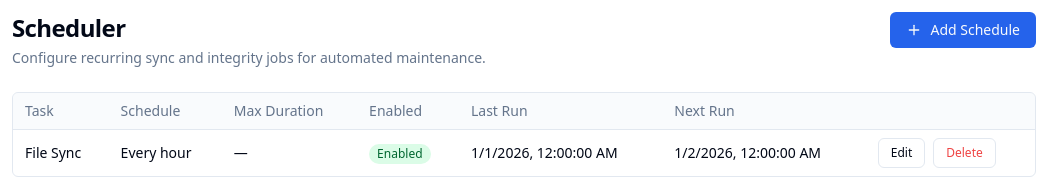
SchedulerPage › toggles schedule enabled/disabled
Expected: the row with test id "schedule-row-1" is shown, [13,130,1035,176]
What coordinates should you click on to do the following:
click the button "Enabled"
I would click on:
 (400, 154)
Its box is [369,144,431,164].
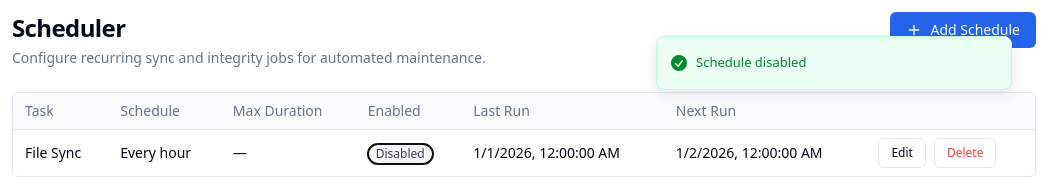
Expected: the text "Schedule disabled" is shown, [696,53,806,72]
